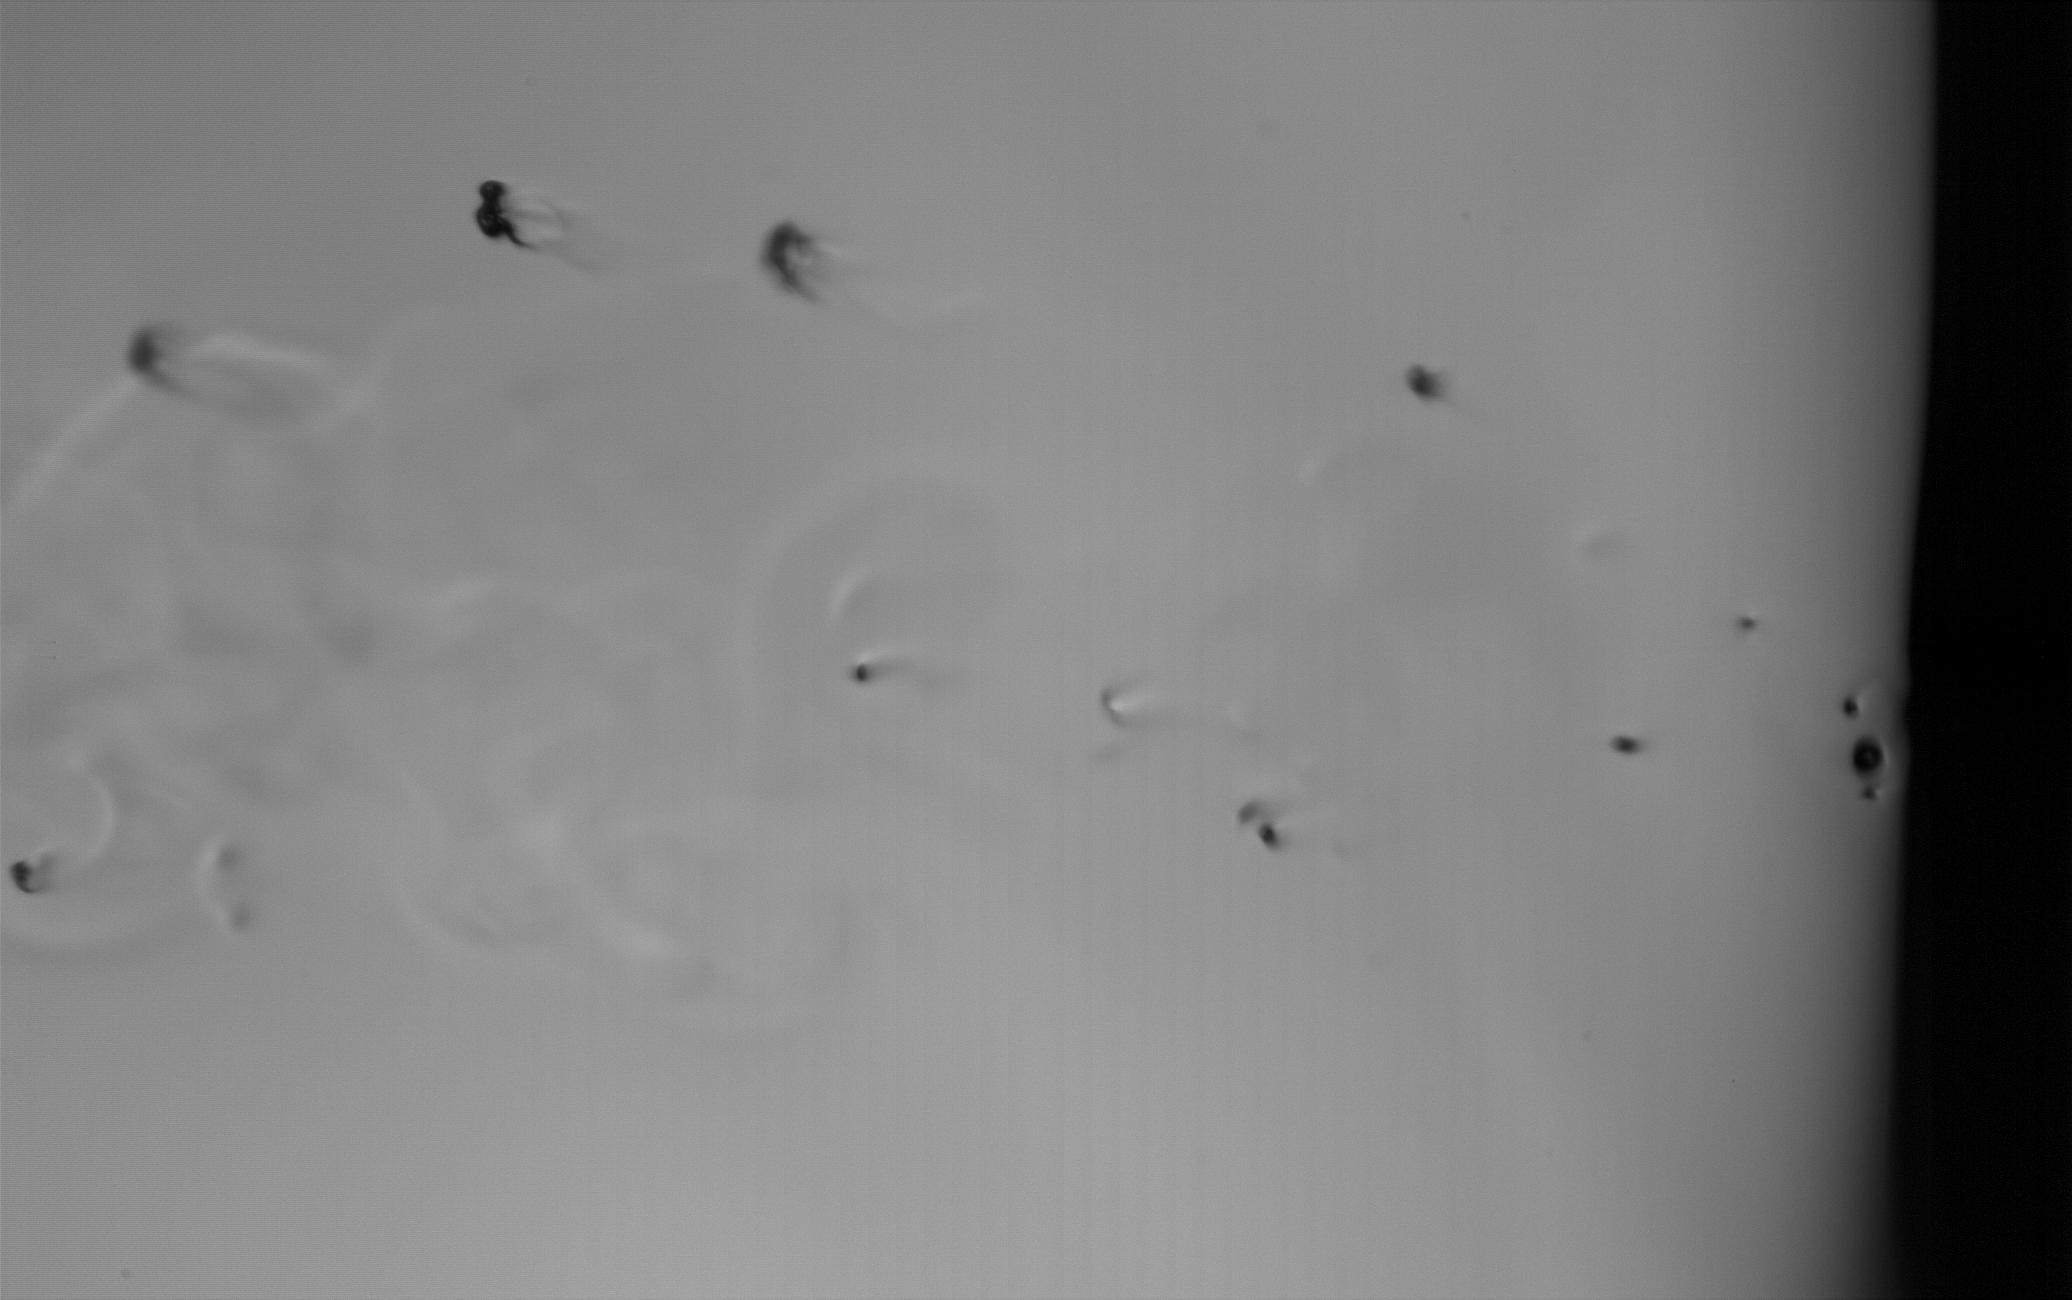Blurry: (472, 177, 540, 250), (764, 219, 814, 297), (10, 860, 42, 896), (1258, 821, 1280, 852), (1611, 735, 1639, 753)
ClassicalEvaporation: (1844, 732, 1889, 777), (1841, 693, 1865, 719), (1859, 777, 1883, 803), (1734, 613, 1758, 638)
TransitionalMixing: (126, 316, 184, 392), (1403, 359, 1442, 404), (852, 659, 870, 684)
